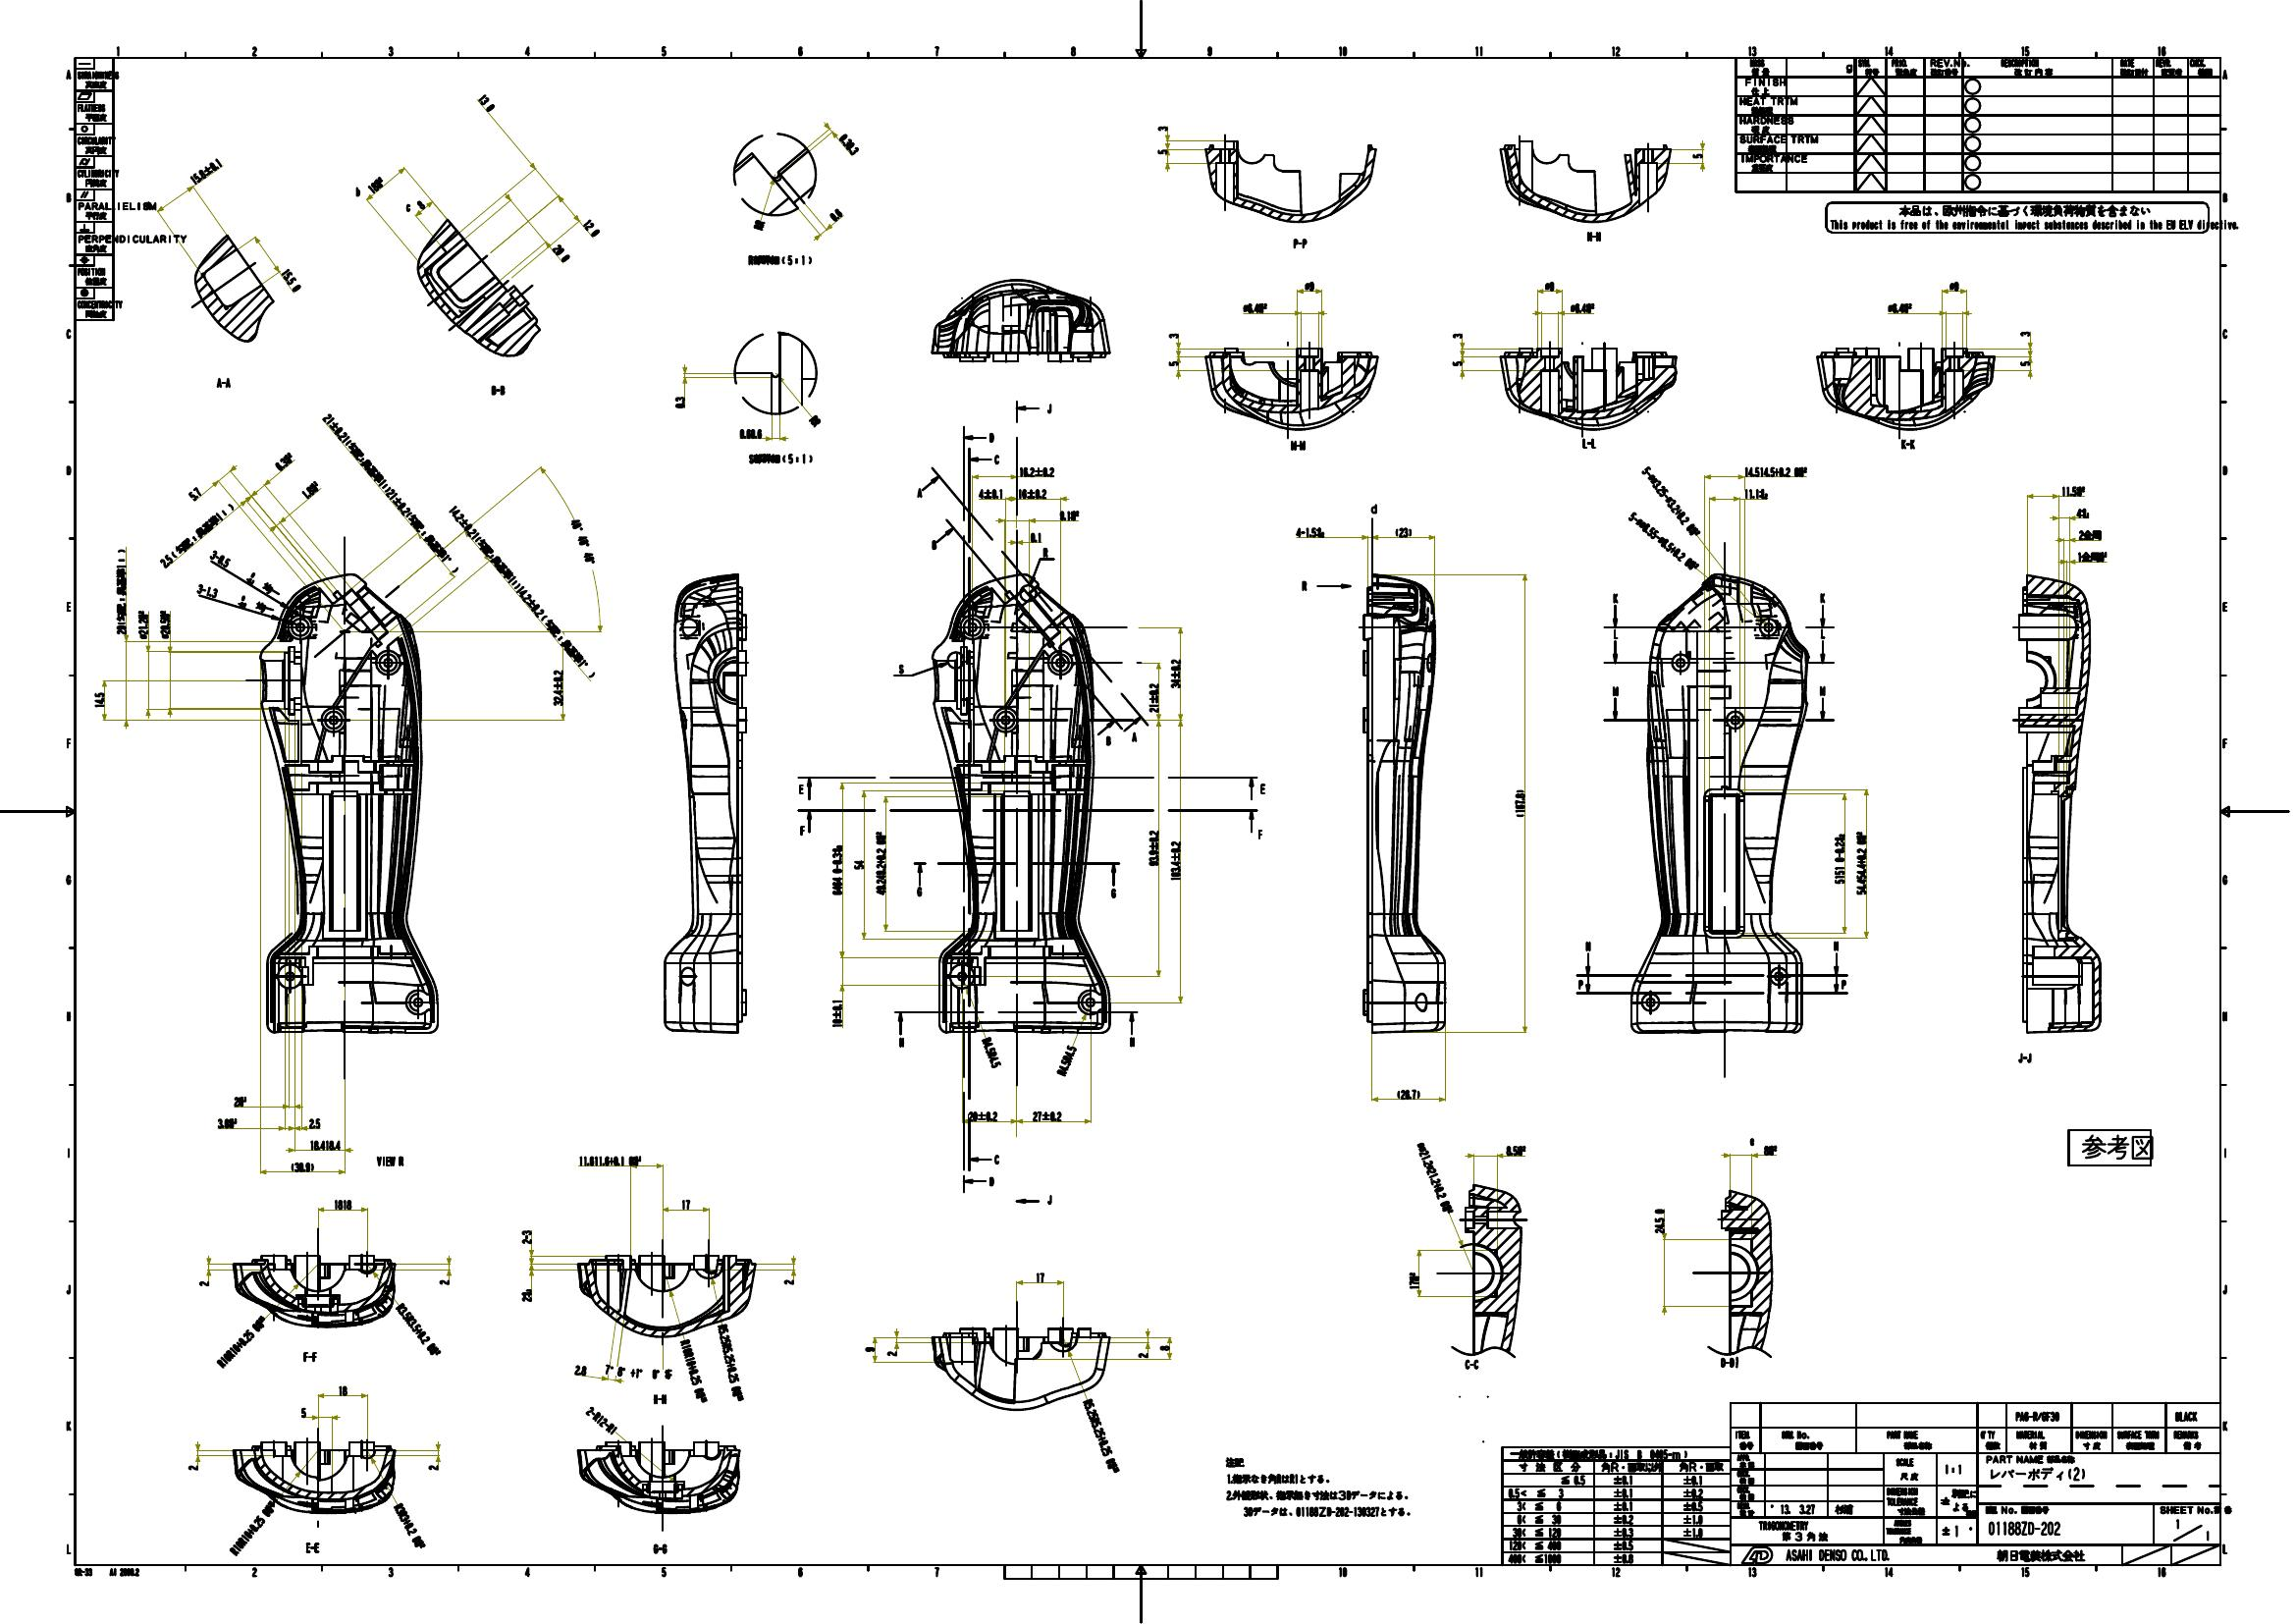anntotation_text: (1223, 1454, 1412, 1520), (1825, 202, 2208, 234), (2068, 1128, 2152, 1164), (745, 251, 815, 267), (745, 452, 815, 466), (395, 536, 473, 548), (162, 524, 241, 534), (332, 459, 399, 471), (114, 548, 125, 624), (72, 1568, 141, 1578), (529, 642, 608, 650), (466, 557, 529, 568), (645, 1538, 675, 1557), (374, 1153, 406, 1169), (299, 1346, 320, 1366), (2013, 1049, 2036, 1065), (1289, 234, 1310, 250), (646, 1394, 671, 1406), (1288, 438, 1309, 452), (490, 383, 508, 399), (1296, 578, 1312, 596), (1715, 1355, 1741, 1366), (214, 374, 234, 388), (1578, 436, 1597, 450), (304, 1541, 323, 1554), (1585, 228, 1602, 241), (1609, 591, 1621, 606), (1463, 1359, 1481, 1369), (991, 1151, 1003, 1165), (913, 886, 926, 900), (896, 663, 910, 675), (808, 413, 822, 425), (1045, 1188, 1054, 1207), (1899, 439, 1915, 450), (912, 483, 922, 499), (928, 536, 936, 554), (1126, 1035, 1138, 1048), (752, 220, 764, 232), (798, 821, 805, 840), (896, 1035, 906, 1048), (1108, 888, 1121, 898), (1128, 733, 1140, 743), (986, 432, 996, 445), (1611, 685, 1621, 698), (1816, 627, 1827, 640), (1583, 939, 1593, 951), (1045, 401, 1056, 413), (1746, 1137, 1758, 1148), (987, 1176, 998, 1186), (1254, 828, 1265, 838), (1258, 782, 1268, 793), (1818, 592, 1827, 605), (1818, 684, 1827, 696), (1370, 501, 1377, 515), (1103, 735, 1114, 743), (1040, 547, 1049, 557), (993, 452, 1000, 464), (1839, 977, 1846, 990), (1576, 977, 1583, 990), (404, 202, 411, 213), (798, 784, 805, 794), (1611, 629, 1618, 640), (1832, 940, 1839, 951), (355, 185, 360, 197)
dimension_text: (1094, 1396, 1107, 1478), (724, 1322, 736, 1403), (206, 568, 285, 580), (195, 592, 274, 605), (1620, 536, 1706, 547), (1628, 497, 1713, 508), (383, 1325, 453, 1338), (206, 1336, 276, 1348), (218, 1522, 286, 1534), (1428, 1137, 1439, 1216), (576, 1153, 641, 1165), (687, 1338, 699, 1403), (1855, 831, 1867, 895), (875, 831, 885, 896), (1743, 466, 1808, 476), (557, 534, 610, 547), (1834, 831, 1845, 884), (383, 1520, 436, 1531), (550, 666, 562, 710), (831, 844, 841, 895), (583, 1413, 620, 1427), (186, 165, 227, 178), (1168, 840, 1180, 881), (1147, 828, 1159, 866), (1051, 1053, 1084, 1067), (1017, 466, 1054, 478), (966, 1109, 998, 1123), (975, 1046, 1008, 1058), (383, 496, 415, 508), (444, 517, 481, 527), (1031, 1109, 1063, 1121), (1295, 526, 1326, 538), (1513, 787, 1525, 819), (1569, 299, 1595, 313), (158, 608, 170, 638), (2076, 550, 2106, 562), (513, 596, 546, 606), (307, 1139, 341, 1149), (1651, 1207, 1664, 1236), (1170, 657, 1180, 689), (1147, 682, 1158, 714), (1887, 301, 1913, 313), (2059, 483, 2085, 496), (648, 1367, 675, 1380), (272, 455, 295, 469), (299, 482, 321, 496), (1240, 302, 1270, 313), (137, 610, 148, 640), (320, 422, 350, 432), (1019, 489, 1049, 499), (831, 998, 841, 1028), (276, 272, 304, 283), (977, 489, 1005, 499), (1504, 1142, 1527, 1155), (1743, 489, 1769, 499), (615, 1367, 641, 1378), (290, 1160, 314, 1171), (1393, 526, 1414, 538), (1395, 1090, 1423, 1098), (836, 139, 859, 149), (216, 1118, 239, 1128), (2078, 531, 2101, 541), (474, 97, 495, 107), (1058, 510, 1079, 520), (332, 1199, 353, 1209), (738, 429, 762, 438), (581, 221, 601, 232), (552, 248, 571, 258), (673, 392, 683, 411), (93, 689, 104, 708), (1407, 1269, 1418, 1288), (1760, 1146, 1780, 1156), (573, 1362, 587, 1376), (1542, 279, 1558, 292), (186, 487, 202, 499), (367, 179, 385, 190), (520, 1227, 531, 1244), (829, 207, 843, 220), (1946, 279, 1960, 292), (232, 1095, 246, 1107), (306, 1118, 321, 1128), (520, 1287, 531, 1302), (1166, 355, 1179, 367), (852, 859, 864, 872), (678, 1199, 692, 1209), (114, 624, 126, 634), (1029, 531, 1042, 541), (1166, 330, 1180, 339), (1449, 359, 1463, 367), (2075, 508, 2089, 517), (436, 1278, 450, 1287), (1303, 279, 1314, 290), (1692, 149, 1702, 160), (887, 1348, 898, 1359), (1035, 1271, 1045, 1281), (2018, 330, 2031, 339), (299, 1404, 307, 1417), (337, 1383, 346, 1396), (427, 1462, 439, 1471), (604, 1364, 613, 1376), (863, 1345, 875, 1353), (1158, 1343, 1170, 1352), (782, 1278, 796, 1285), (1158, 146, 1168, 155), (1453, 330, 1463, 339), (1138, 1350, 1149, 1359), (186, 1462, 199, 1469), (415, 202, 425, 209), (1156, 123, 1166, 130), (2018, 359, 2029, 366), (197, 1280, 207, 1287)
object: (260, 575, 439, 1033), (1630, 573, 1809, 1032), (931, 573, 1108, 1033), (662, 573, 747, 1033), (1361, 573, 1446, 1032), (2018, 573, 2101, 1032), (416, 220, 541, 359), (1500, 341, 1678, 431), (1205, 343, 1379, 431), (931, 1327, 1112, 1411), (1205, 134, 1375, 221), (1816, 346, 1994, 431), (1498, 135, 1671, 221), (933, 279, 1108, 362), (578, 1255, 755, 1336), (234, 1253, 395, 1329), (1451, 1185, 1521, 1357), (232, 1441, 395, 1513), (578, 1441, 741, 1513), (1706, 1190, 1773, 1359), (197, 236, 274, 341), (734, 332, 819, 415), (734, 132, 815, 216)
title_block: (1500, 1401, 2219, 1564), (1739, 56, 2224, 190), (74, 60, 112, 320)
